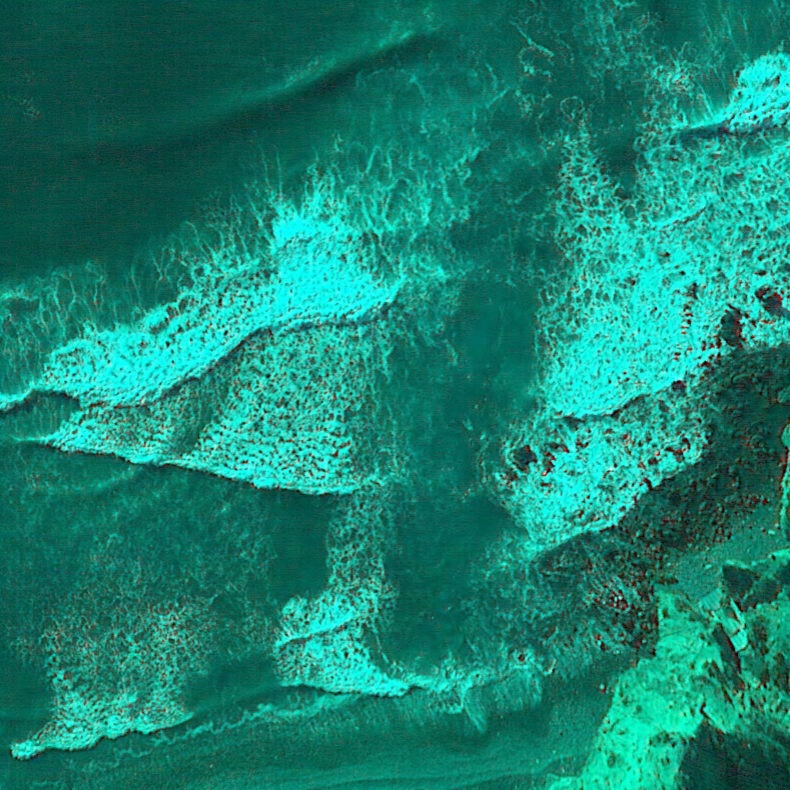rip_current: (318, 103, 634, 693)
